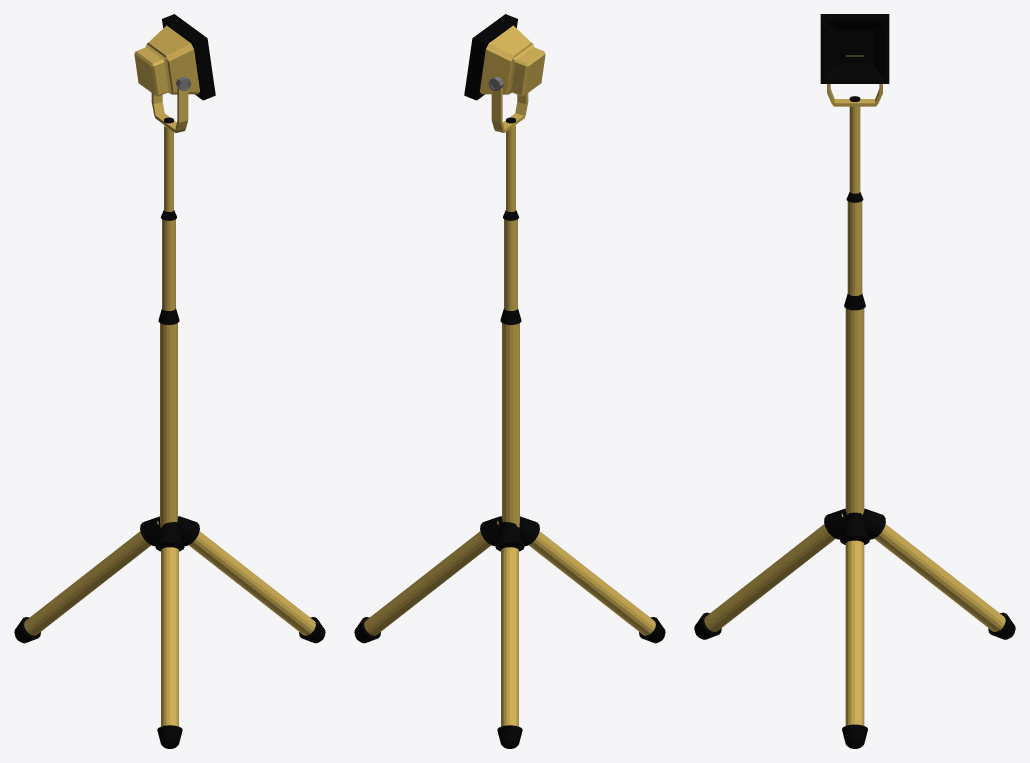
File: Floodlight.glb
The picture shows the model from 3 angles, left to right: view 1: azimuth 30°, elevation 25°; view 2: azimuth 150°, elevation 25°; view 3: azimuth 270°, elevation 25°; orthographic projection. The views are drawn at different scales.
Parts seen in each view (by area): view 1: Cylinder, Cube, Cylinder.003, Cylinder.001, Cylinder.002, Cube.001; view 2: Cylinder, Cube, Cylinder.002, Cylinder.001, Cylinder.003, Cube.001; view 3: Cylinder, Cube, Cylinder.001, Cylinder.002, Cylinder.003.
Boxes of the visible parts, bbox=[...] form: Cylinder: bbox=[158, 117, 179, 527]; Cube: bbox=[134, 14, 215, 100]; Cylinder.003: bbox=[155, 522, 184, 748]; Cylinder.001: bbox=[177, 516, 325, 643]; Cylinder.002: bbox=[14, 516, 160, 643]; Cube.001: bbox=[151, 87, 188, 132]; Cylinder: bbox=[500, 117, 521, 527]; Cube: bbox=[464, 14, 545, 100]; Cylinder.002: bbox=[495, 522, 524, 748]; Cylinder.001: bbox=[354, 516, 502, 643]; Cylinder.003: bbox=[519, 516, 665, 643]; Cube.001: bbox=[491, 87, 528, 132]; Cylinder: bbox=[844, 96, 865, 514]; Cube: bbox=[820, 14, 889, 83]; Cylinder.001: bbox=[840, 512, 869, 748]; Cylinder.002: bbox=[862, 508, 1015, 639]; Cylinder.003: bbox=[694, 508, 847, 639].
Bounding box in the file's own units: 1.19 × 3.13 × 1.36.
2 materials, 1 textured.
